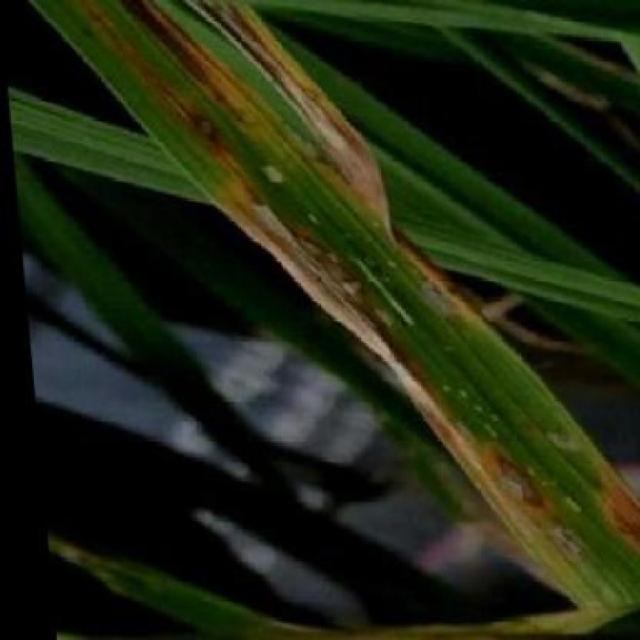Bacterial_Leaf_Blight: (484, 448, 562, 510), (544, 516, 604, 556), (614, 496, 640, 559)
